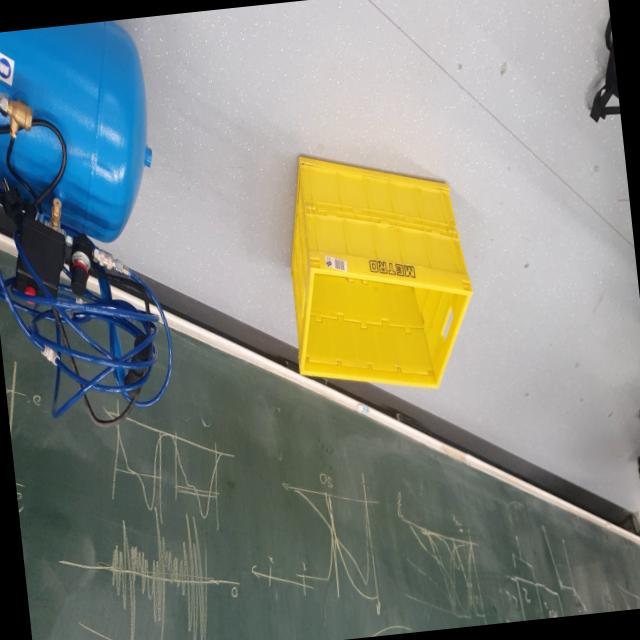box: (272, 125, 492, 424)
